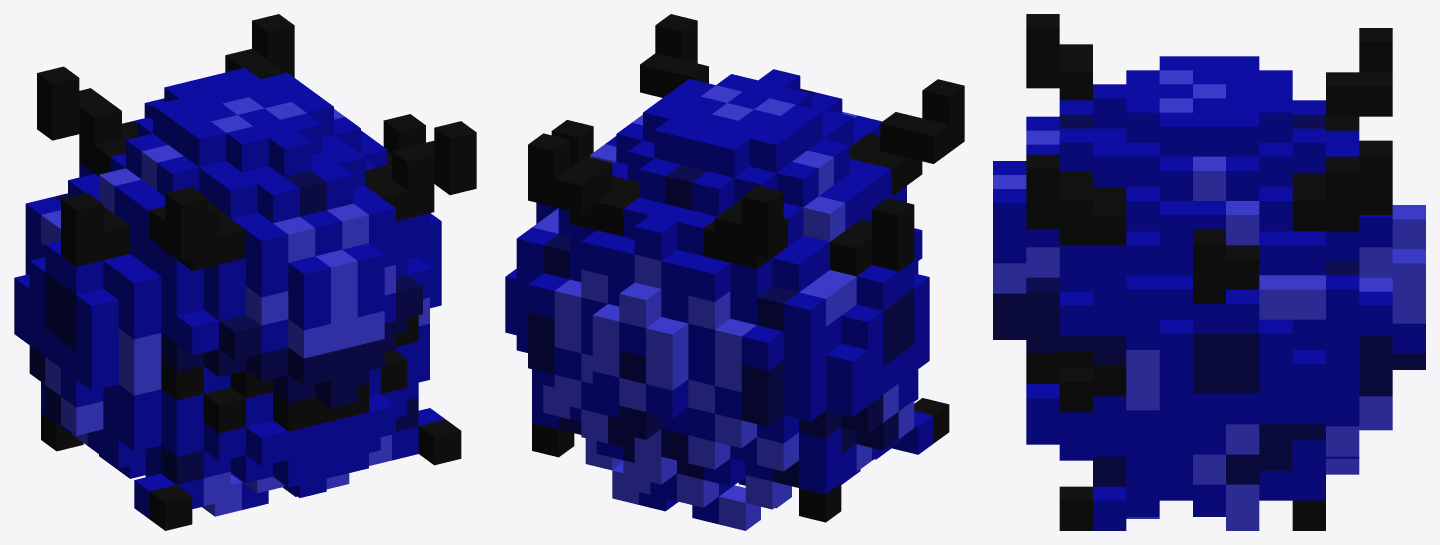
File: 8-Bit CacoHPain2F-07.obj
3 views of the same model, side by side, from view 1: azimuth 30°, elevation 25°; view 2: azimuth 150°, elevation 25°; view 3: azimuth 270°, elevation 25° (orthographic). The views are drawn at different scales.
Size of the model in its own units: 13 by 13 by 13.
Materials: 1 (1 with a texture image).
